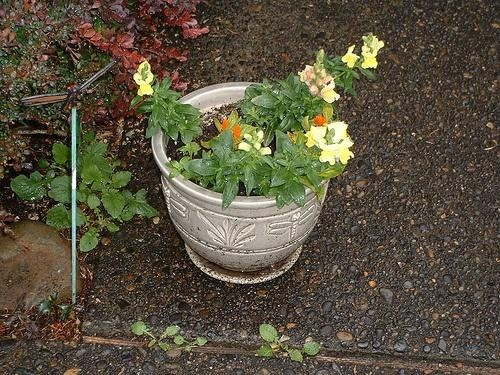pottedplant: (134, 32, 388, 285)
